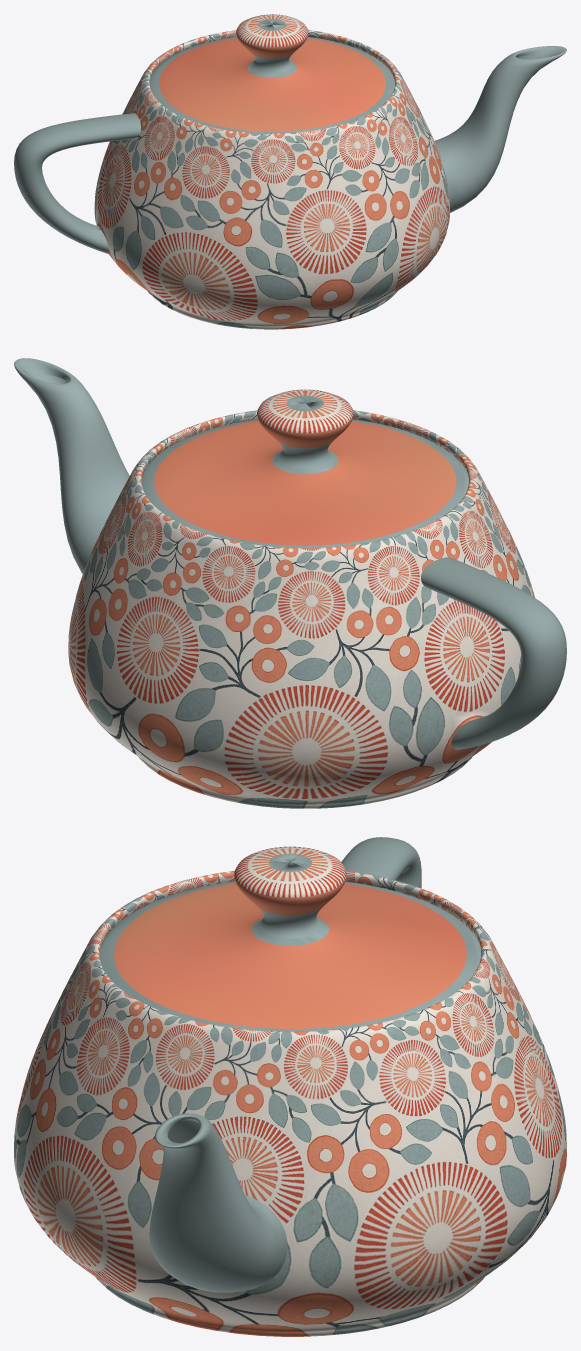
File: teapot.gltf
3 views of the same model, one above another, from view 1: azimuth 30°, elevation 25°; view 2: azimuth 150°, elevation 25°; view 3: azimuth 270°, elevation 25° (orthographic). The views are drawn at different scales.
Parts seen in each view (by area): view 1: high_poly_teapot; view 2: high_poly_teapot; view 3: high_poly_teapot.
Boxes of the visible parts, x1=… form: high_poly_teapot: x1=14, y1=14, x2=566, y2=329; high_poly_teapot: x1=14, y1=358, x2=566, y2=808; high_poly_teapot: x1=14, y1=837, x2=566, y2=1336.
Size of the model in its own units: 42.38 by 21.74 by 27.2.
Materials: 1 (1 with a texture image).
